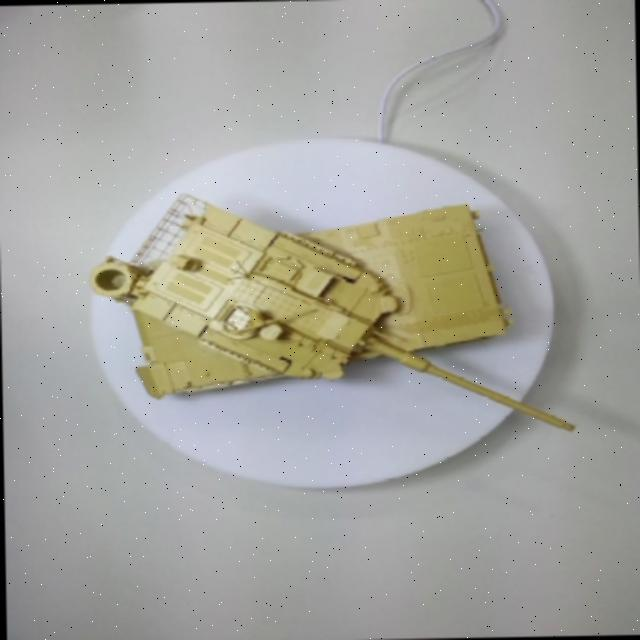korea tank: (70, 138, 612, 490)
